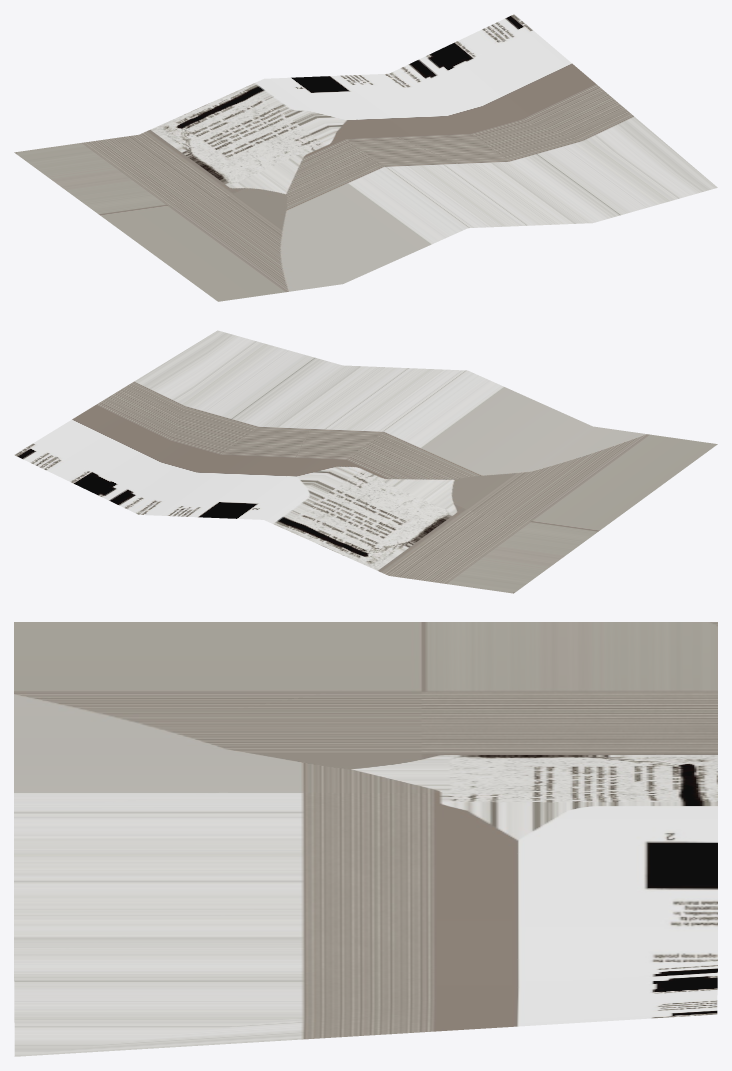
The model's file is SM_Prop_Stick_Paper_04.fbx.
The picture shows the model from 3 angles, top to bottom: view 1: azimuth 30°, elevation 25°; view 2: azimuth 150°, elevation 25°; view 3: azimuth 270°, elevation 25°; orthographic projection. The views are drawn at different scales.
Visible parts, largest first — view 1: SM_Prop_Stick_Paper_04; view 2: SM_Prop_Stick_Paper_04; view 3: SM_Prop_Stick_Paper_04.
Part boxes in pixels (<box>): SM_Prop_Stick_Paper_04: <box>14,14,717,301</box>; SM_Prop_Stick_Paper_04: <box>14,330,717,593</box>; SM_Prop_Stick_Paper_04: <box>14,622,717,1056</box>.
Bounding box in the file's own units: 39.12 × 2.19 × 27.66.
Materials: 1 (1 with a texture image).
